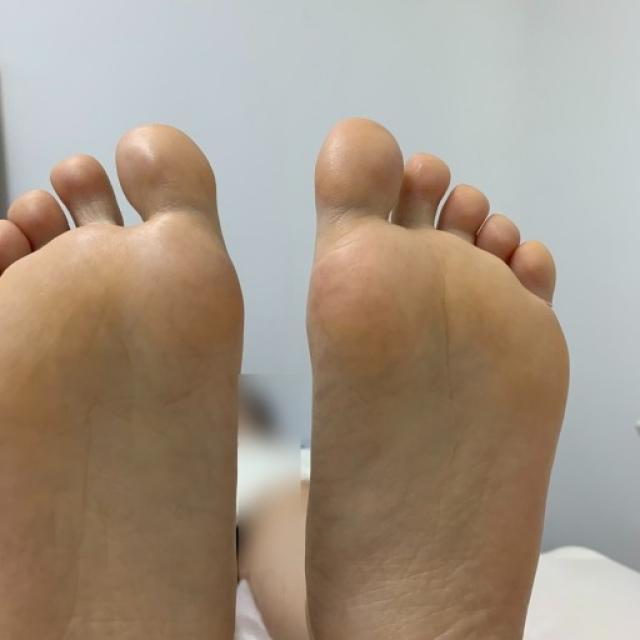No_Shoes: (275, 111, 559, 640), (0, 99, 249, 640)
